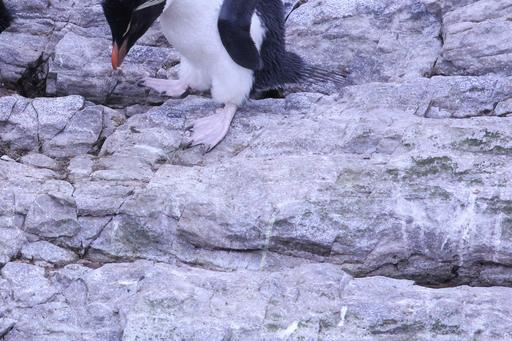Southern Rockhopper Penguin: (89, 0, 308, 141), (0, 0, 58, 114)
